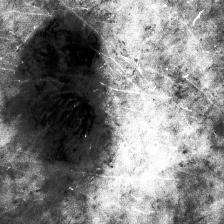Benign Marking or Mole: (12, 11, 122, 167)
